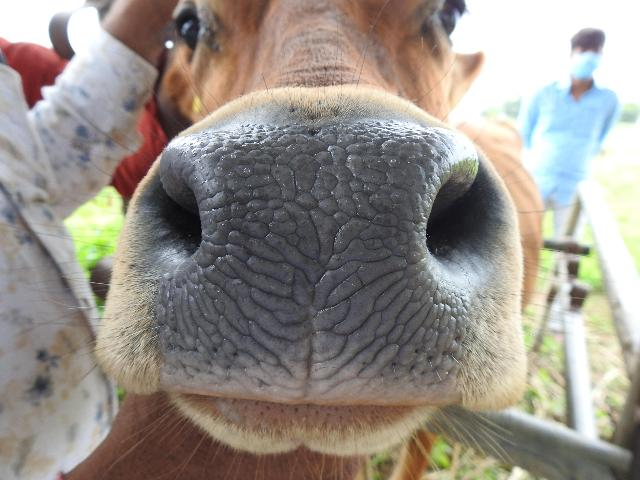Muzzle: (168, 133, 444, 409)
